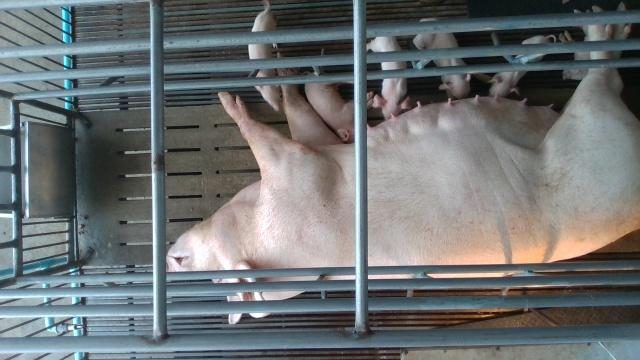piglet: (297, 68, 373, 145), (414, 18, 472, 98), (487, 33, 557, 98), (366, 36, 413, 122), (248, 2, 282, 112), (561, 5, 591, 79)
sow-sleep-lactate: (165, 2, 640, 325)
